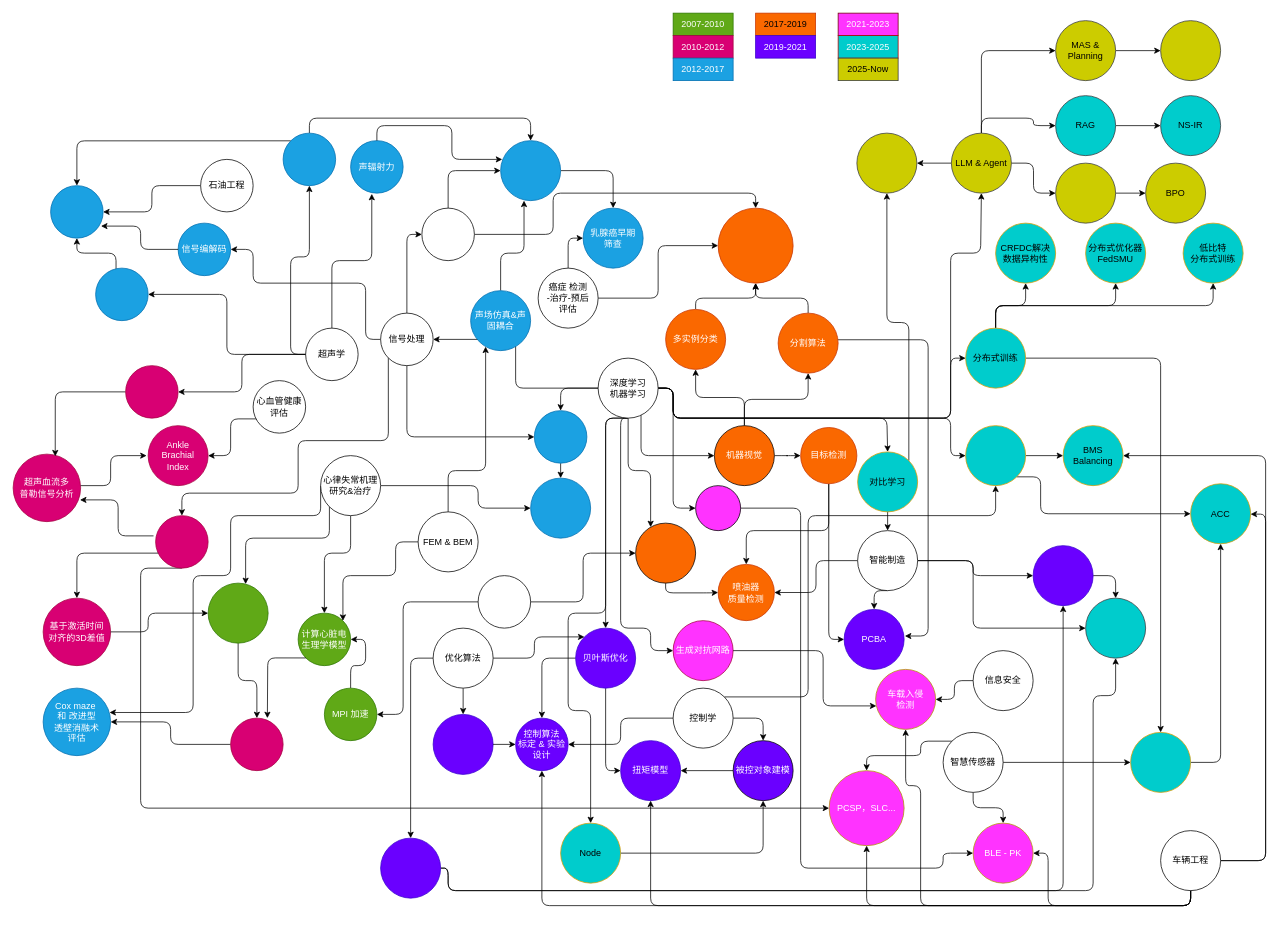
The diagram is 1285 pixels wide and 925 high, and some of its shapes have lost their labels. The shapes that lost their labels are listed below. From the top down, each one's box as (x1, y1, x2, y2) in pixels, then its label:
(1160, 20, 1221, 81): AgentPO
(282, 132, 336, 186): 组织粘弹性
(500, 140, 561, 201): 超声B-Flow 成像 & 闪烁伪影研究
(856, 132, 917, 193): 时序基础模型
(50, 185, 103, 238): Early Kick Detection
(1055, 162, 1116, 223): RLHF
(421, 207, 474, 261): 医疗成像和后处理
(717, 207, 793, 283): 基于病理图片 的结直肠癌 分级 & 预后评估
(95, 267, 148, 321): 声衰减 原理
(125, 365, 178, 418): 多普勒原理
(534, 410, 587, 463): 时序信号特征点检测
(965, 425, 1026, 486): 强化学习
(530, 477, 591, 538): 心电图心律失常信号标注
(695, 485, 741, 531): MOE
(155, 515, 208, 568): 时序信号特征抽取
(635, 522, 696, 583): 神经网络压缩和边缘部署
(1032, 545, 1093, 606): 产能规划
(207, 582, 268, 643): 心外膜标 测系统
(477, 575, 531, 628): 计算架构
(1085, 597, 1146, 658): AS
(230, 717, 283, 771): 心房3D惠根斯传播模型
(432, 714, 493, 774): 群体启发式 优化算法
(1130, 732, 1191, 792): 轨迹预测
(380, 837, 441, 898): 运筹学
